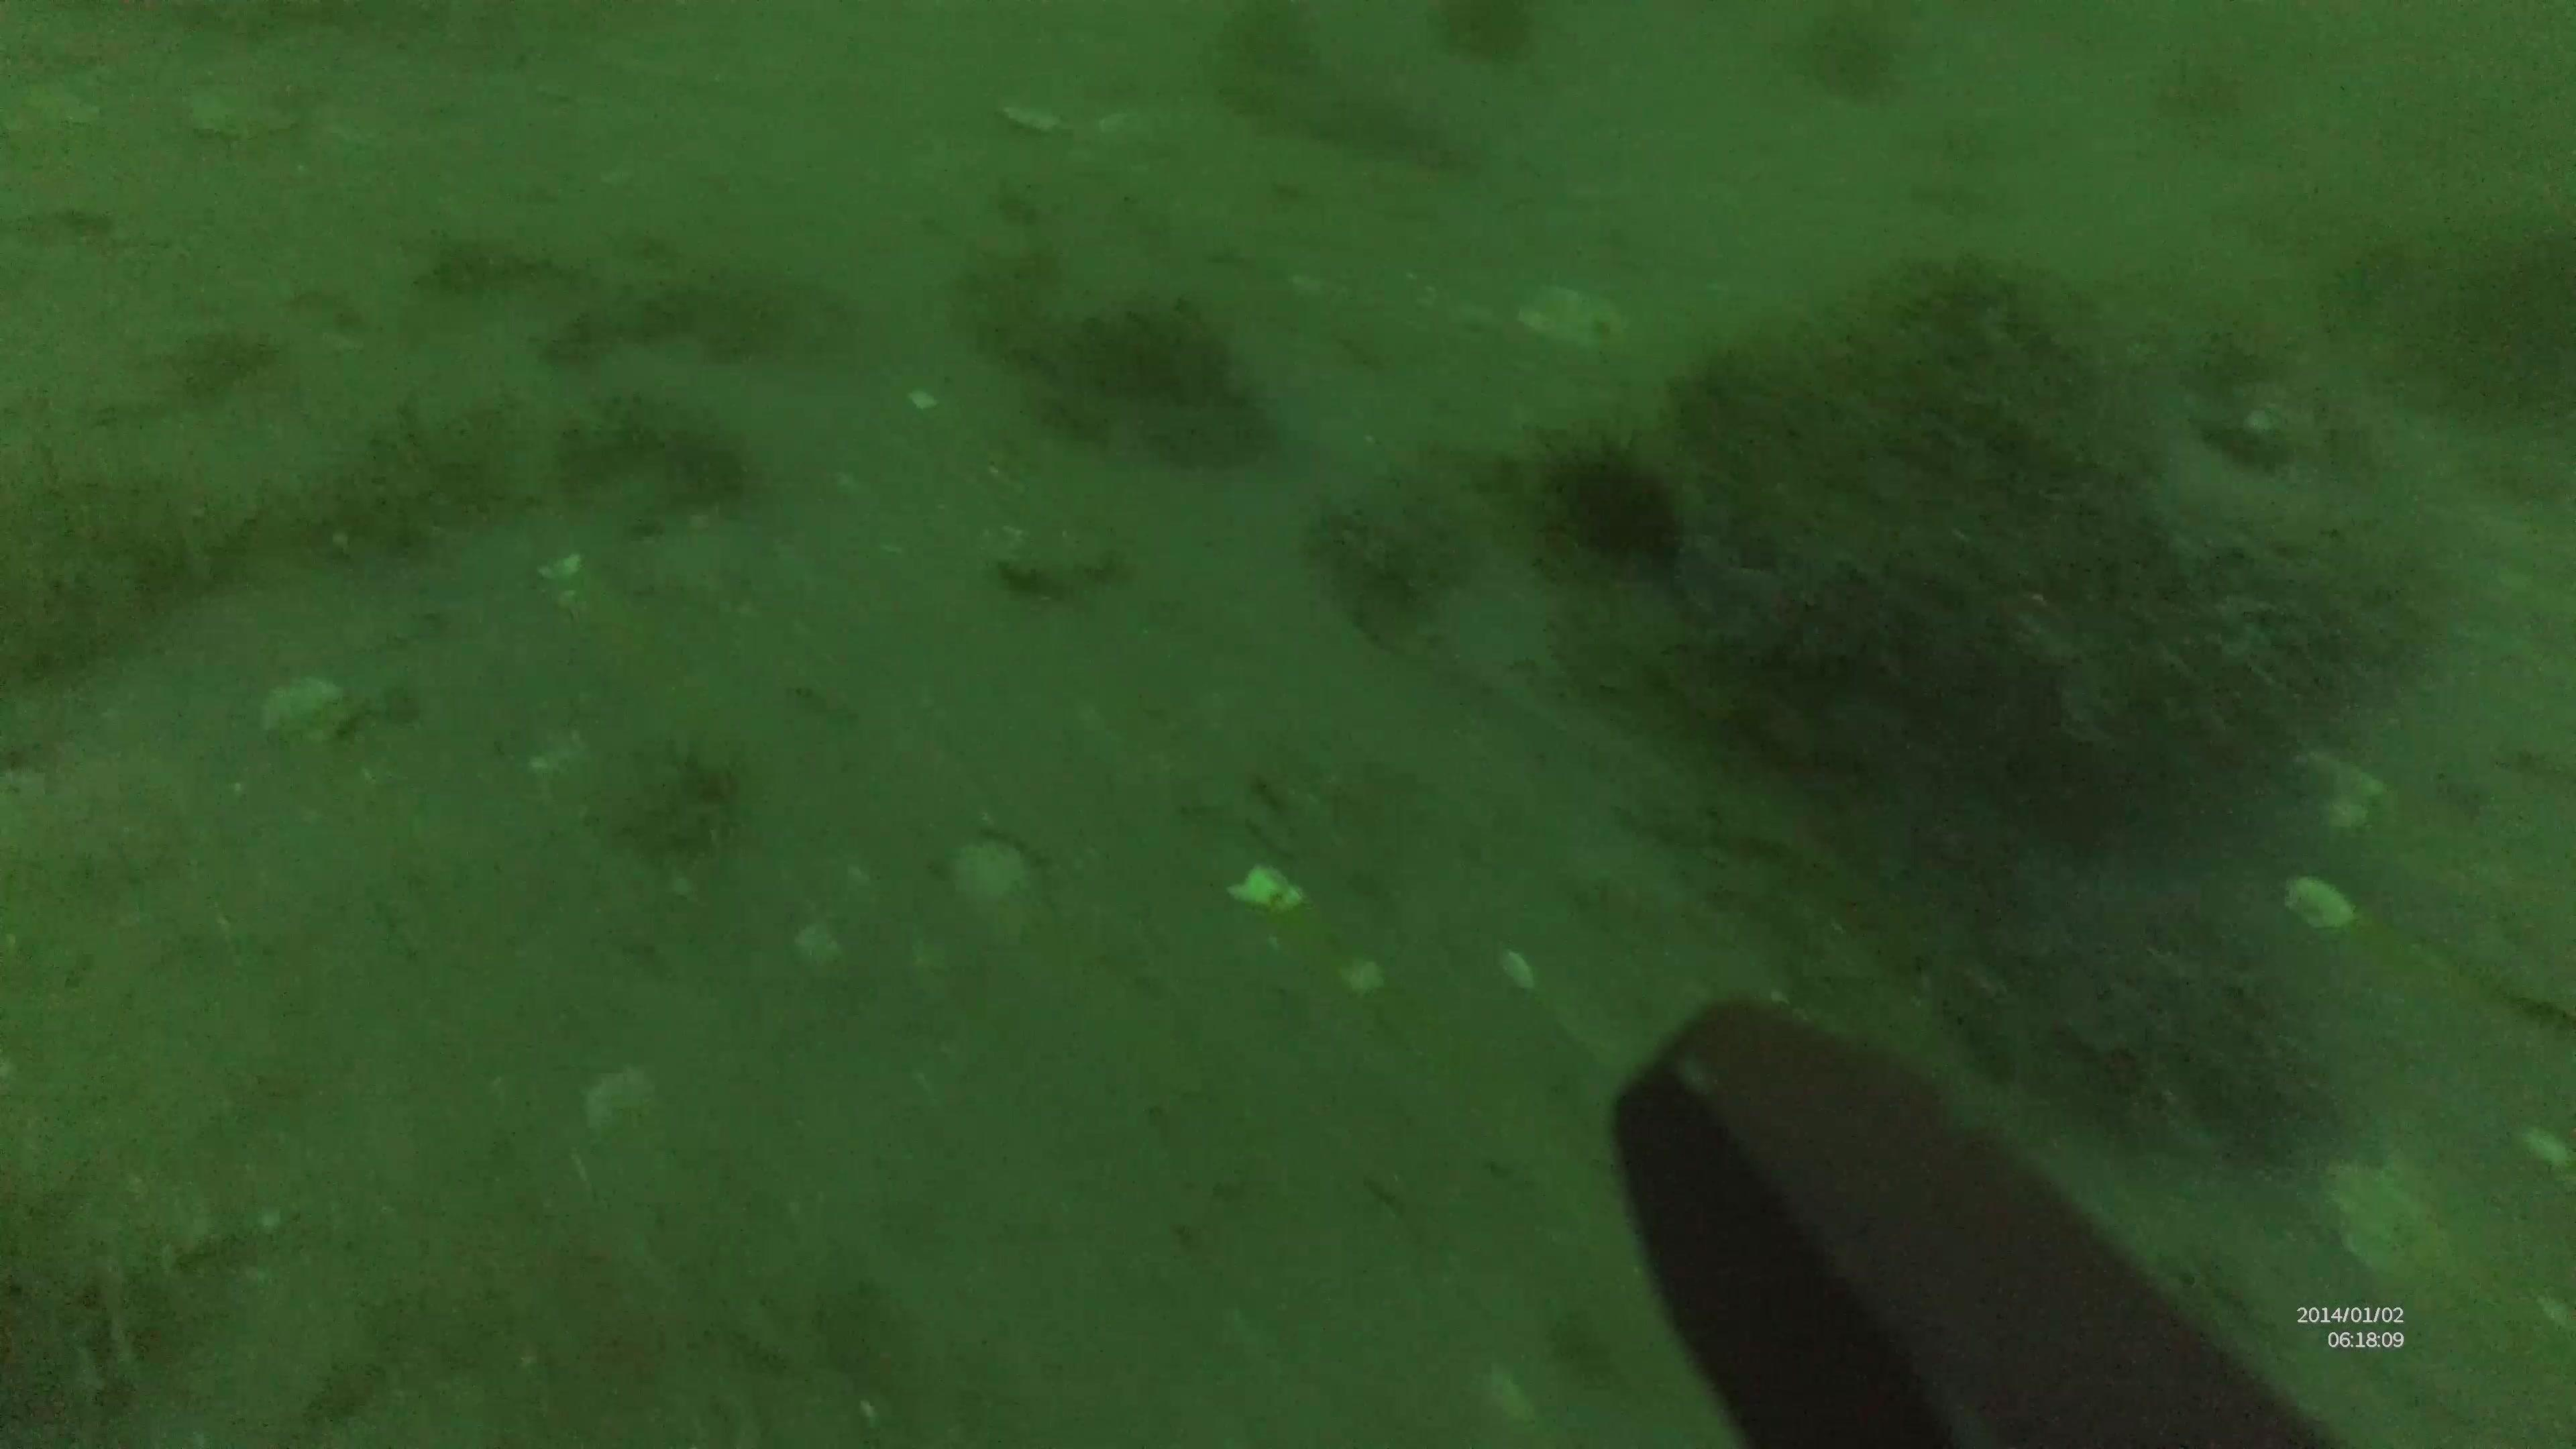echinus: (1532, 409, 1695, 570)
